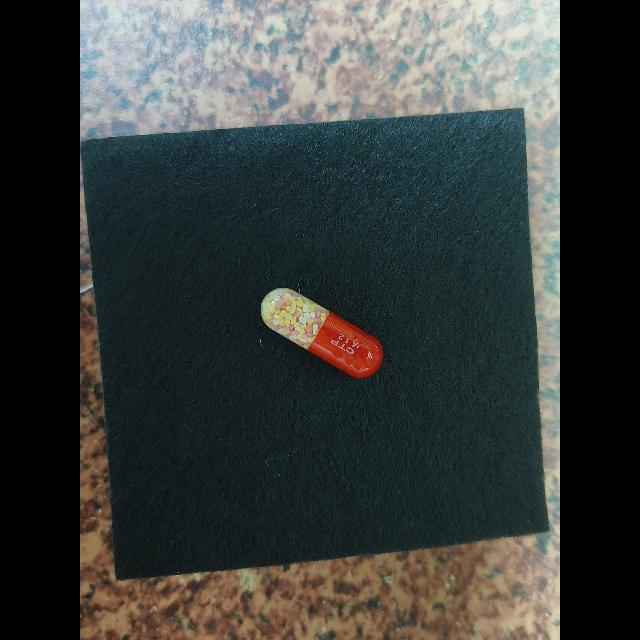Intact Capsule: (261, 288, 383, 378)
